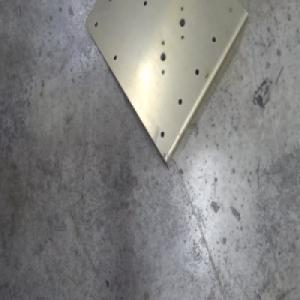MetalSheet: (85, 0, 249, 172)
